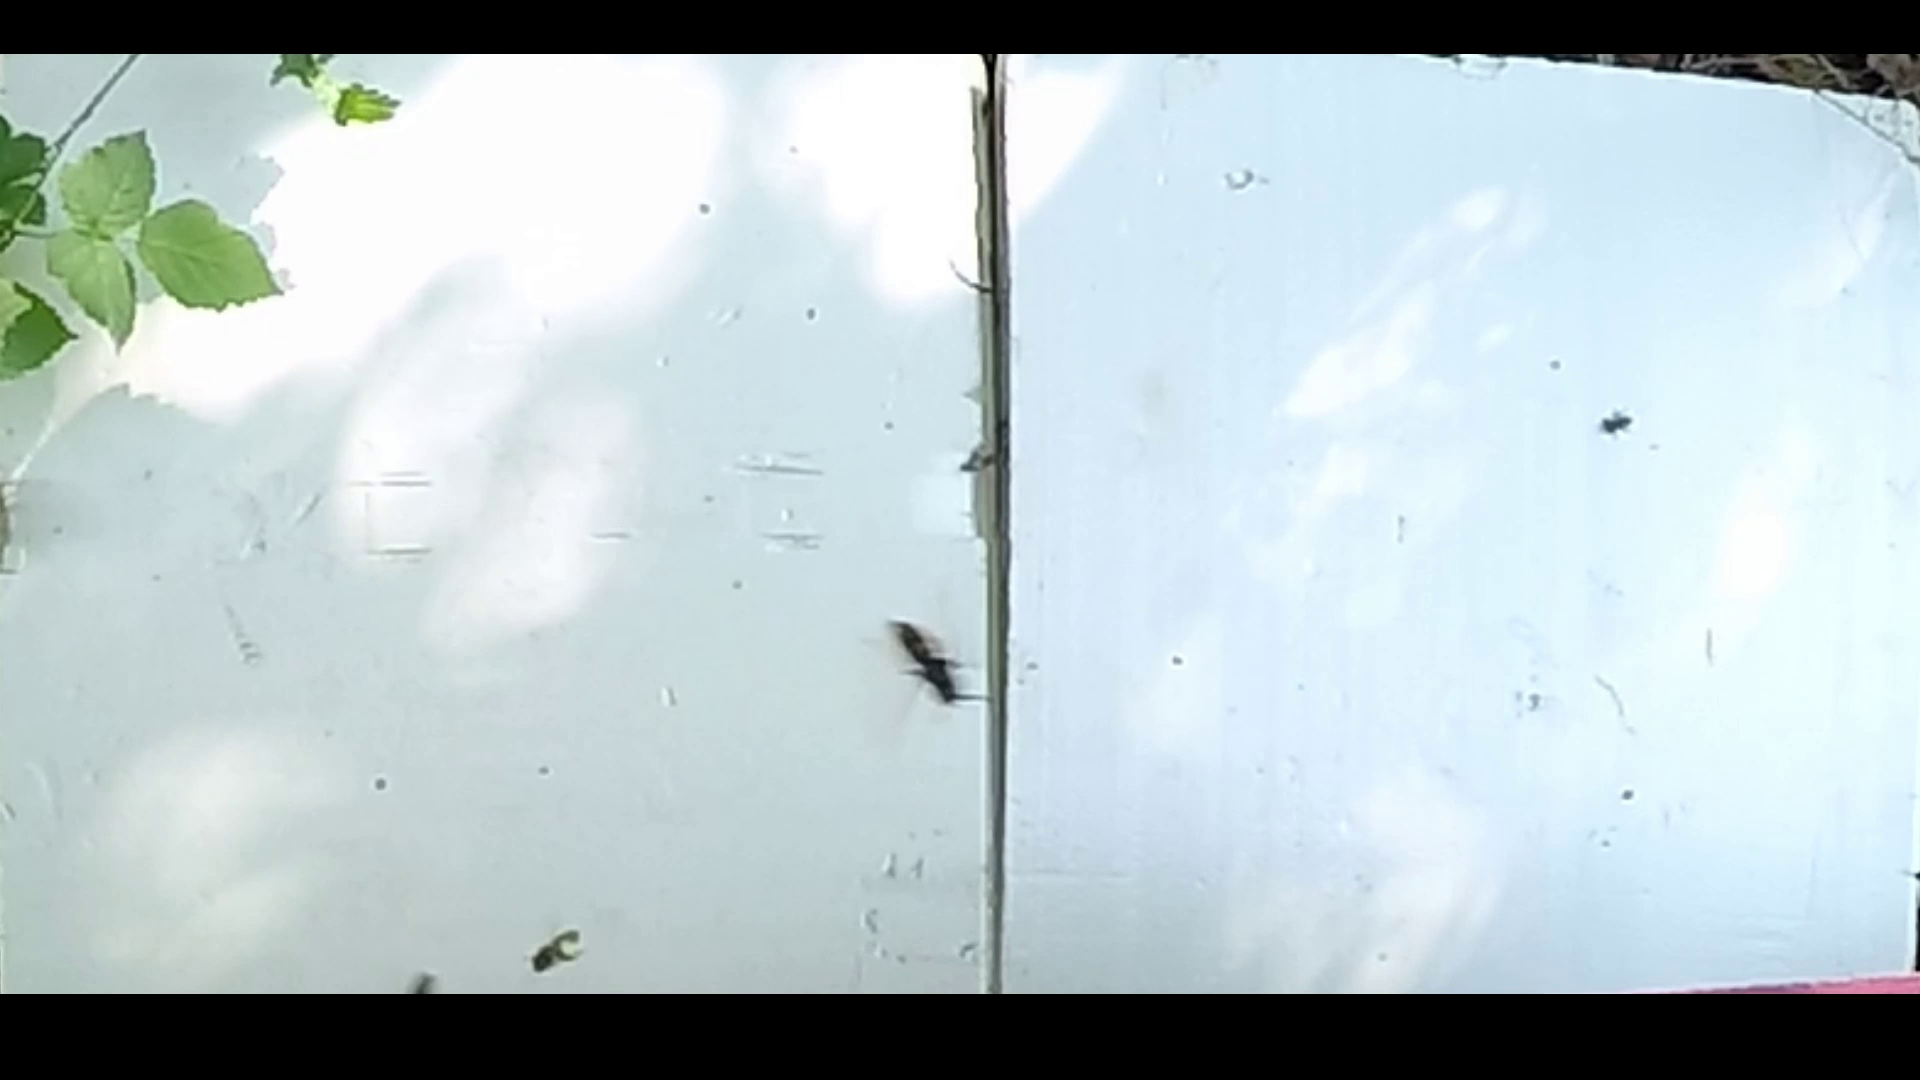Asian_hornets: (862, 597, 1006, 741)
